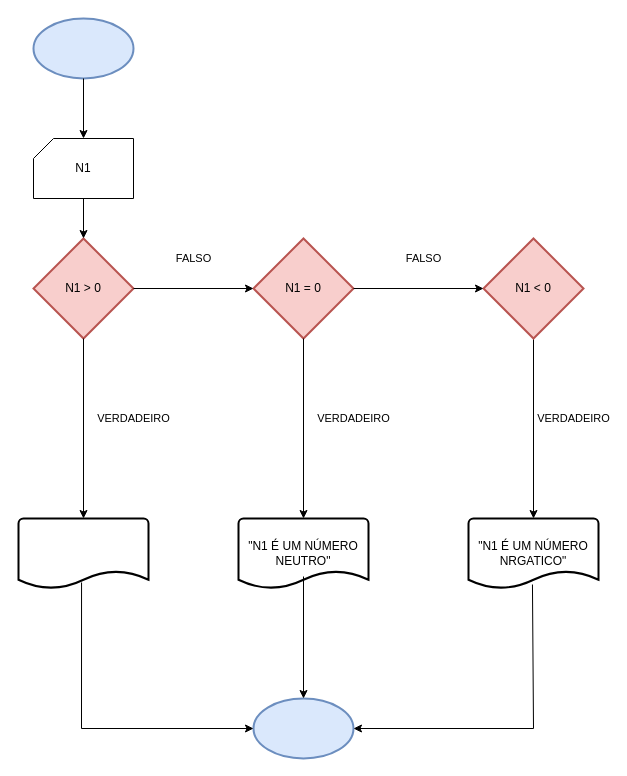
Some shapes in this 627 by 776 pixel diagram are drawn without their labels. Each missing label, with the centre of its shape:
"N1 É UM NÚMERO POSITIVO": the point at 83,553
FIM: the point at 303,728
Início: the point at 83,48
